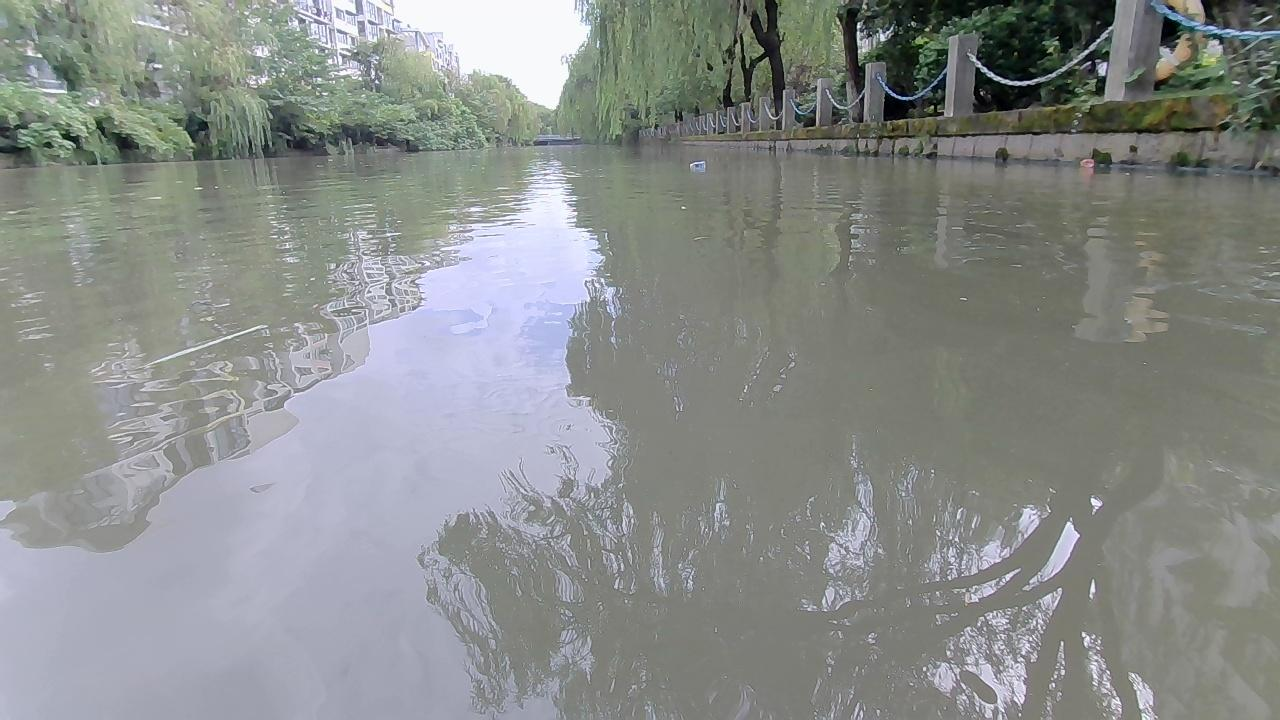bottle: (683, 158, 712, 172), (1077, 154, 1100, 170)
